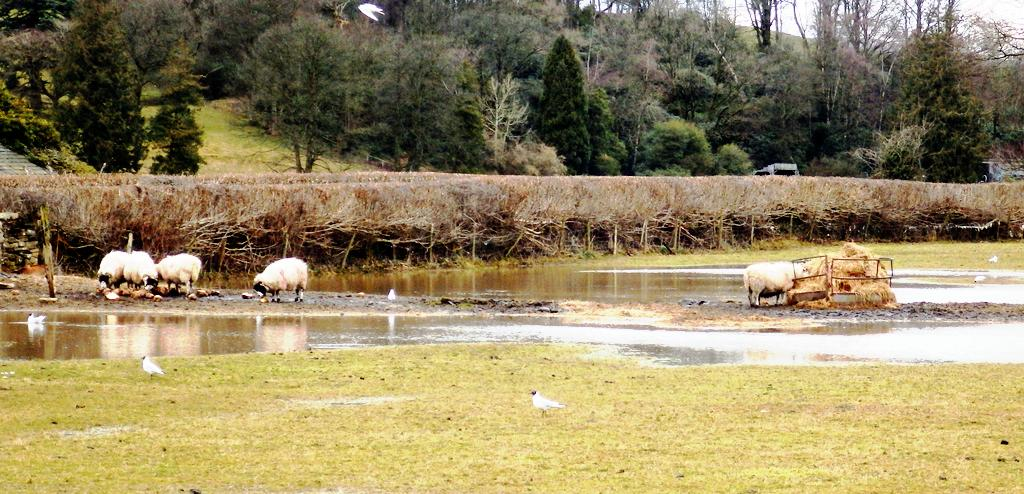Sheep: (742, 261, 808, 305), (254, 260, 308, 300), (156, 254, 199, 294), (124, 252, 154, 292), (96, 252, 122, 292)
